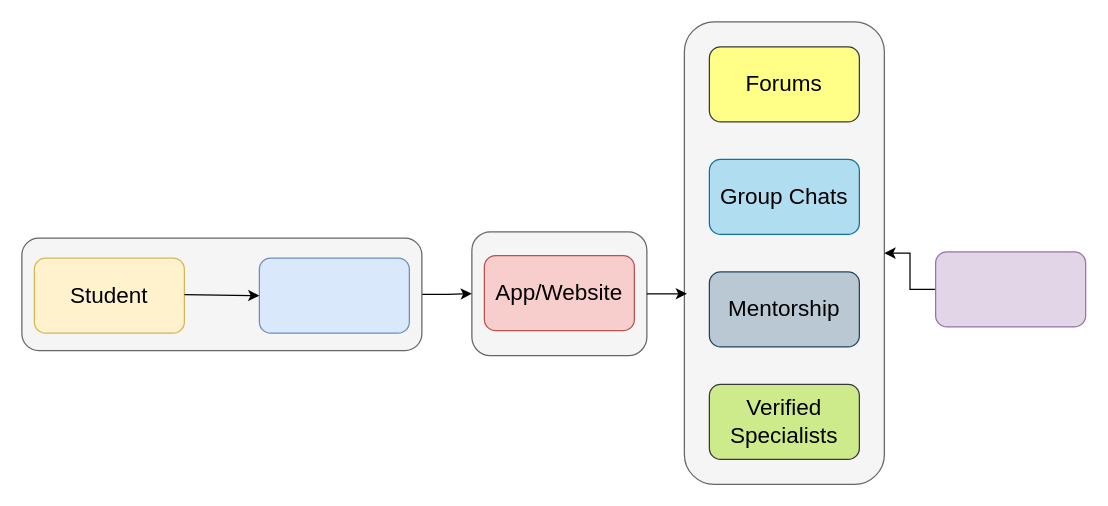
Image size: 1108x506. Some labels were removed from this diagram. Here are the shapes that lost their labels. From the top down, the box of each, then its label:
(258, 257, 409, 333): Smart Device
(934, 251, 1086, 327): Other Students
